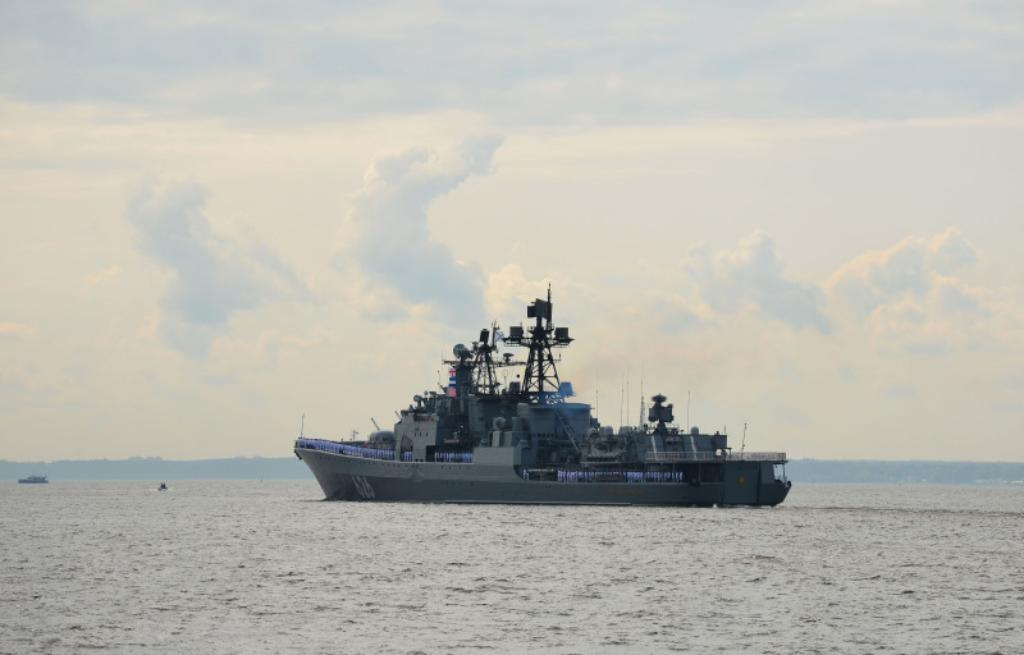Warship: (290, 280, 796, 508)
